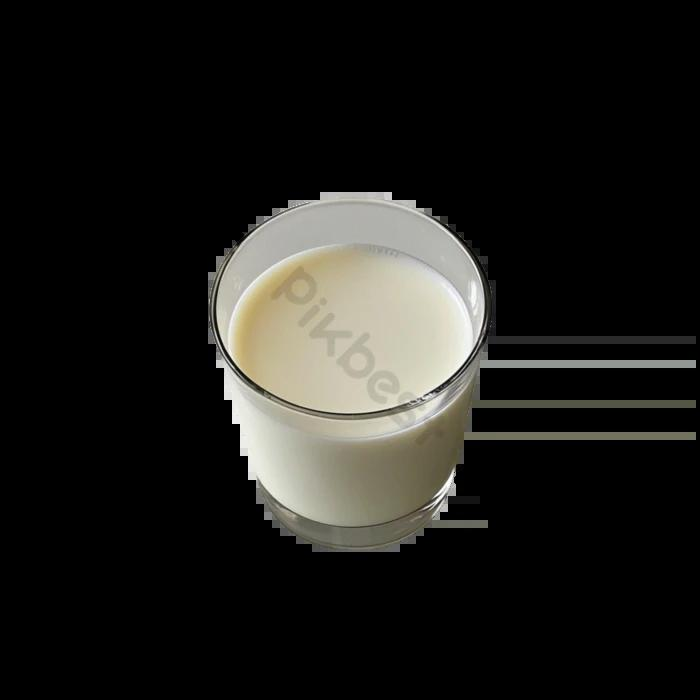produk_susu: (247, 225, 430, 501)
